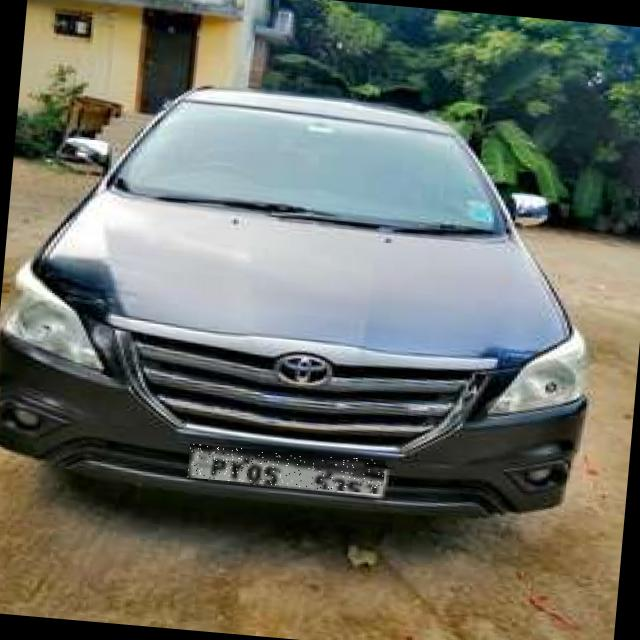Plate: (188, 444, 386, 495)
